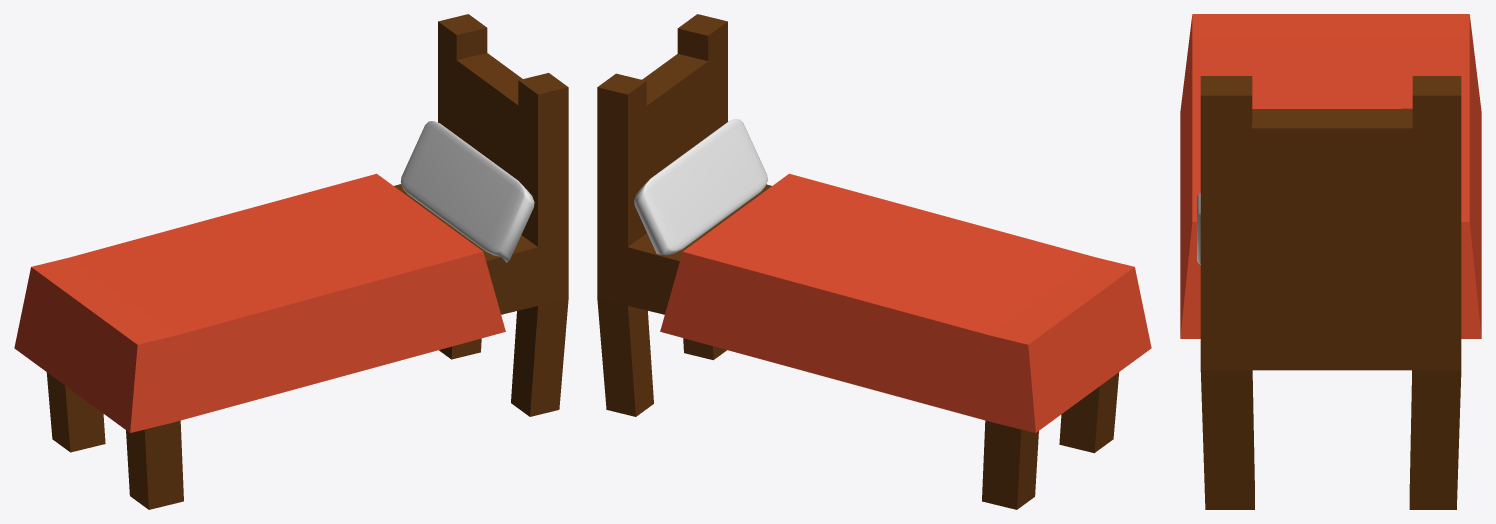
File: Cama.fbx
3 renders of one model, left to right at view 1: azimuth 30°, elevation 25°; view 2: azimuth 150°, elevation 25°; view 3: azimuth 270°, elevation 25°, orthographic. The views are drawn at different scales.
Parts seen in each view (by area): view 1: Cube.004, Cube.005; view 2: Cube.004, Cube.005; view 3: Cube.004.
Part boxes in pixels (left/top/right/bottom): Cube.004: left=14, top=14, right=568, bottom=509; Cube.005: left=400, top=121, right=534, bottom=262; Cube.004: left=597, top=14, right=1151, bottom=509; Cube.005: left=634, top=119, right=767, bottom=255; Cube.004: left=1180, top=14, right=1481, bottom=509.
Bounding box in the file's own units: 210 × 145 × 94.29.
